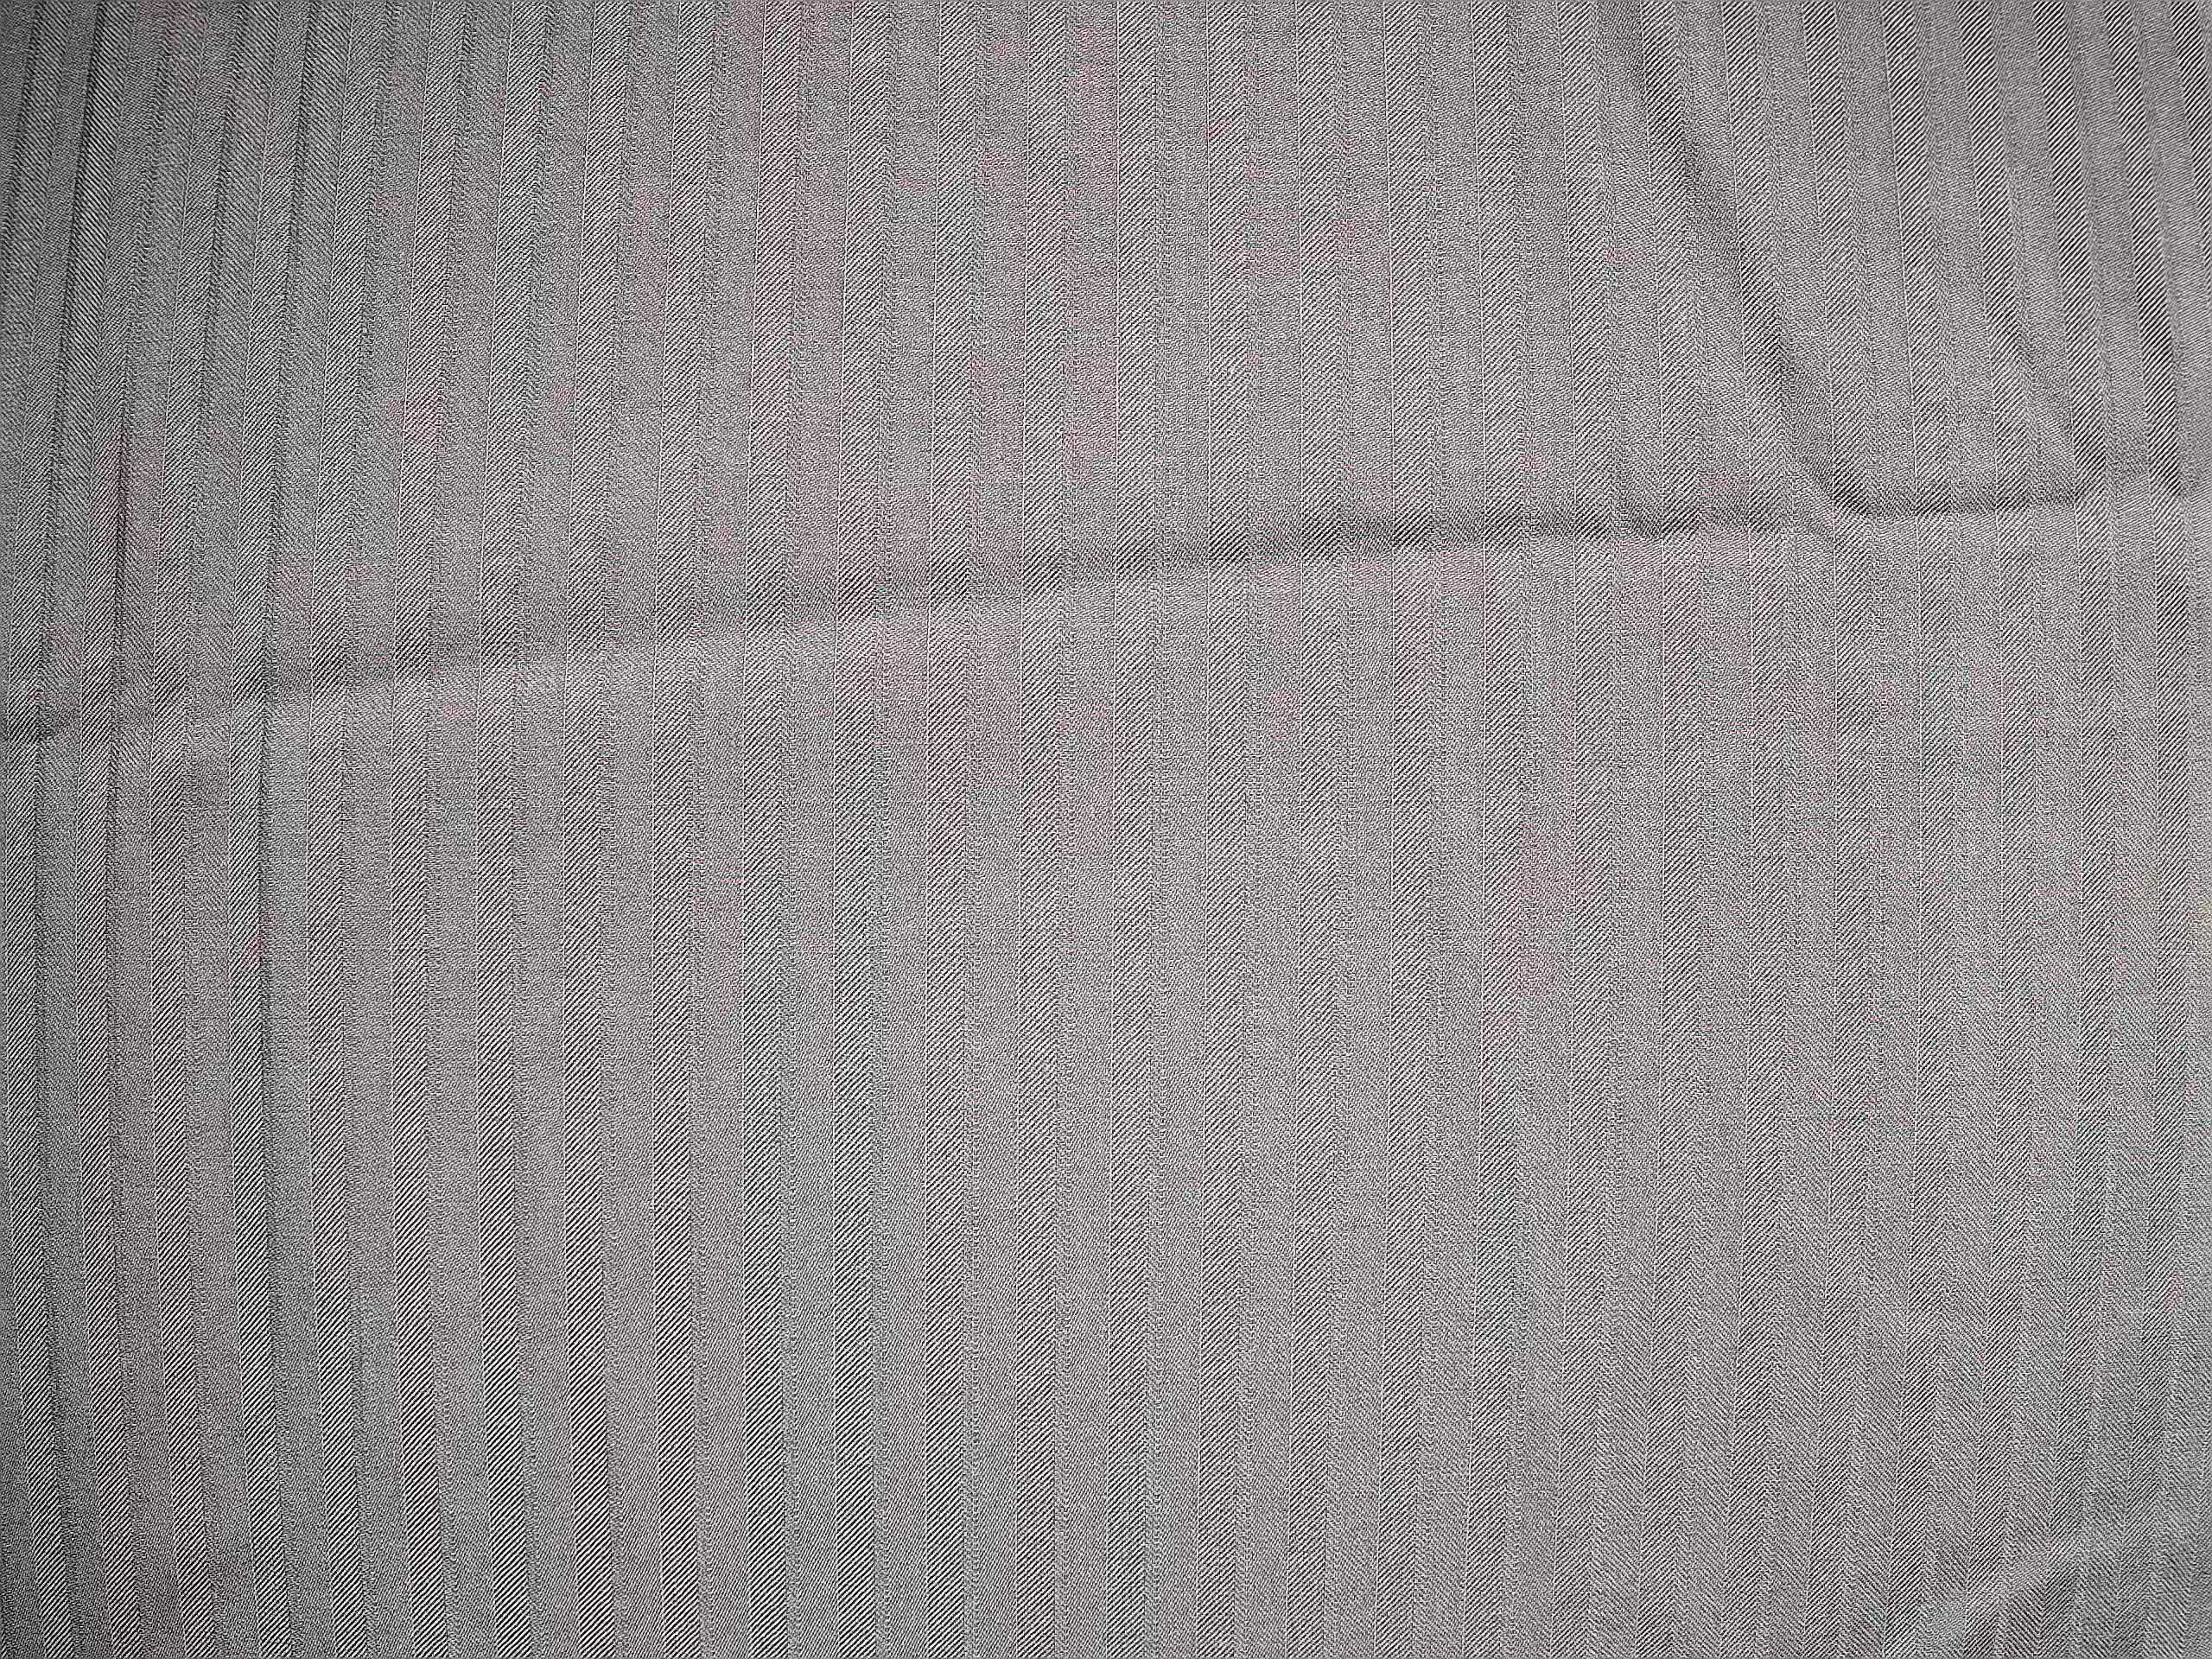others: (1134, 779, 1635, 828)
